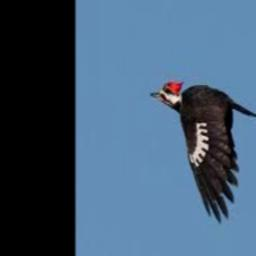Woodpecker: (152, 80, 256, 222)
